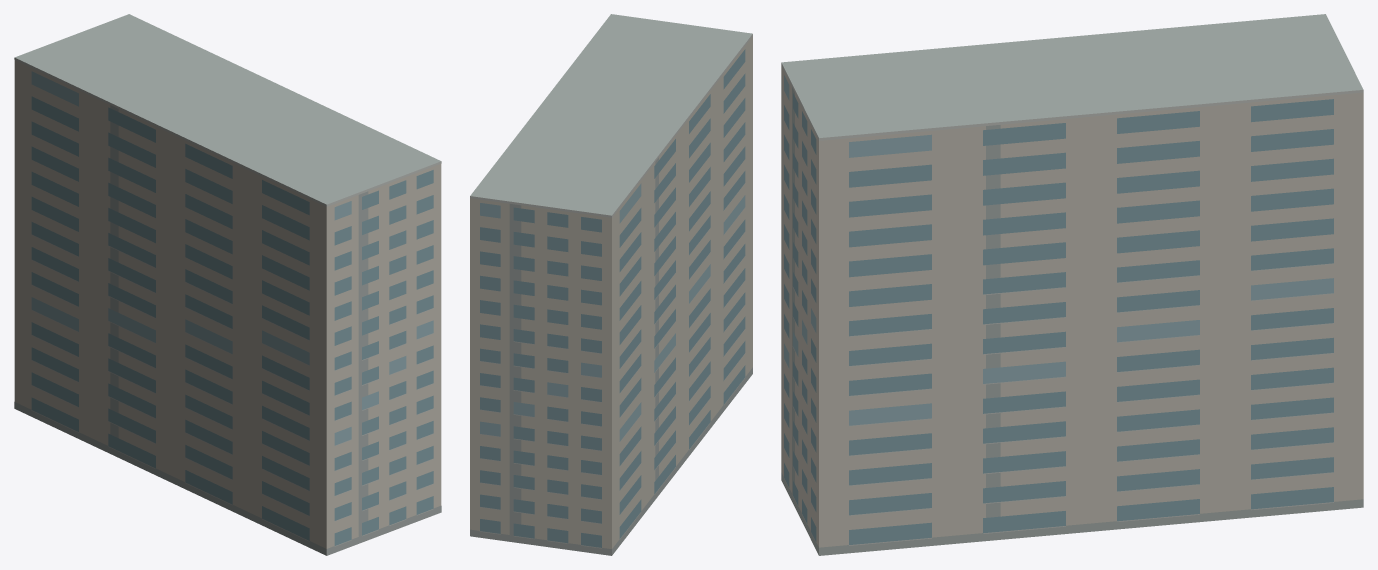
The model's file is residential-a5f8217b-8169-477a-bbfb-2e8f14681425.glb.
3 views of the same model, side by side, from view 1: azimuth 30°, elevation 25°; view 2: azimuth 150°, elevation 25°; view 3: azimuth 270°, elevation 25° (orthographic). The views are drawn at different scales.
Parts seen in each view (by area): view 1: residential-a5f8217b-8169-477a-bbfb-2e8f14681425.tmp; view 2: residential-a5f8217b-8169-477a-bbfb-2e8f14681425.tmp; view 3: residential-a5f8217b-8169-477a-bbfb-2e8f14681425.tmp.
Boxes of the visible parts, bbox=[...] form: residential-a5f8217b-8169-477a-bbfb-2e8f14681425.tmp: bbox=[14, 14, 441, 555]; residential-a5f8217b-8169-477a-bbfb-2e8f14681425.tmp: bbox=[470, 14, 752, 555]; residential-a5f8217b-8169-477a-bbfb-2e8f14681425.tmp: bbox=[781, 14, 1363, 555].
Size of the model in its own units: 23.59 by 37 by 46.74.
